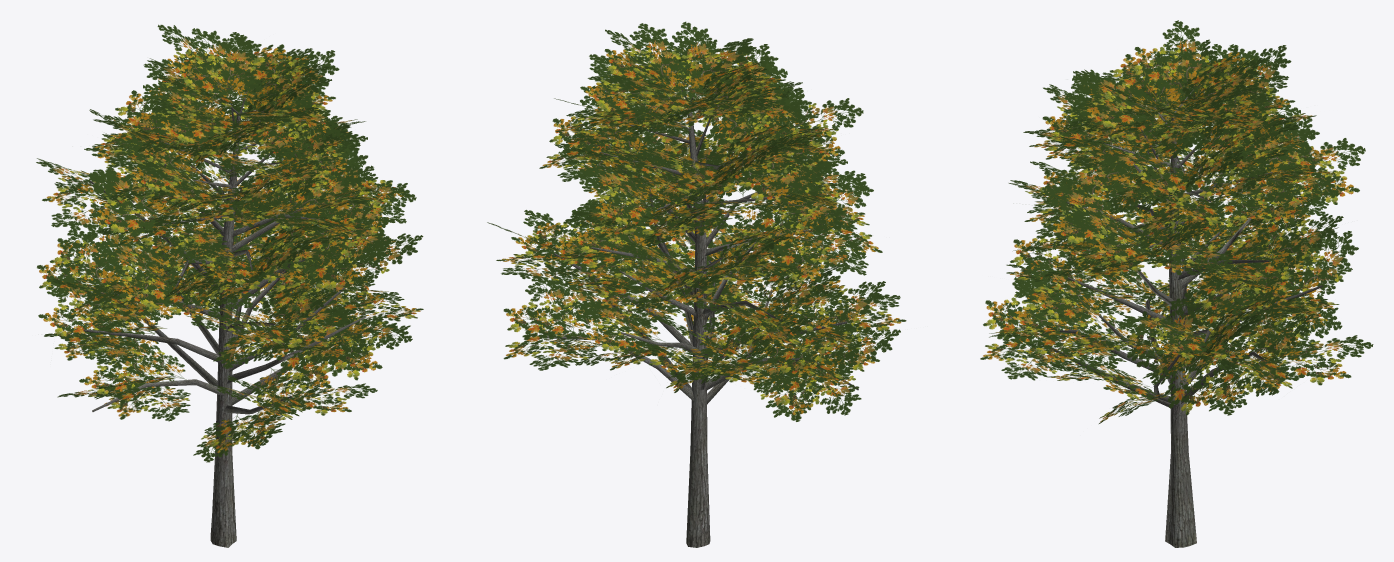
Rendered from Tree-Variant-2.glb.
3 renders of one model, left to right at view 1: azimuth 30°, elevation 25°; view 2: azimuth 150°, elevation 25°; view 3: azimuth 270°, elevation 25°, orthographic.
Visible parts, largest first — view 1: Tree-Variant-2; view 2: Tree-Variant-2; view 3: Tree-Variant-2.
Boxes of the visible parts, x1,y1,x2,y2 form: Tree-Variant-2: (36, 24, 423, 547); Tree-Variant-2: (487, 21, 906, 547); Tree-Variant-2: (980, 20, 1373, 547).
Size of the model in its own units: 16.82 by 20.29 by 15.61.
1 material, 1 textured.
